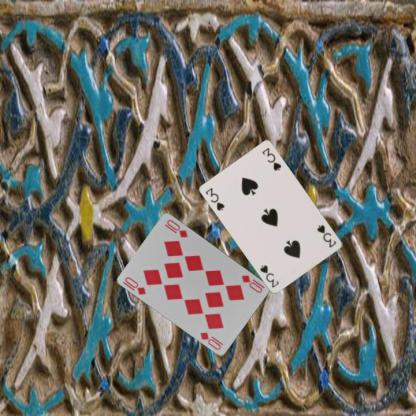10d: (239, 272, 266, 294), (122, 274, 148, 296)
3s: (314, 222, 338, 249), (203, 185, 226, 212)
